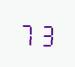seven: (19, 19, 36, 46)
three: (37, 20, 54, 47)
